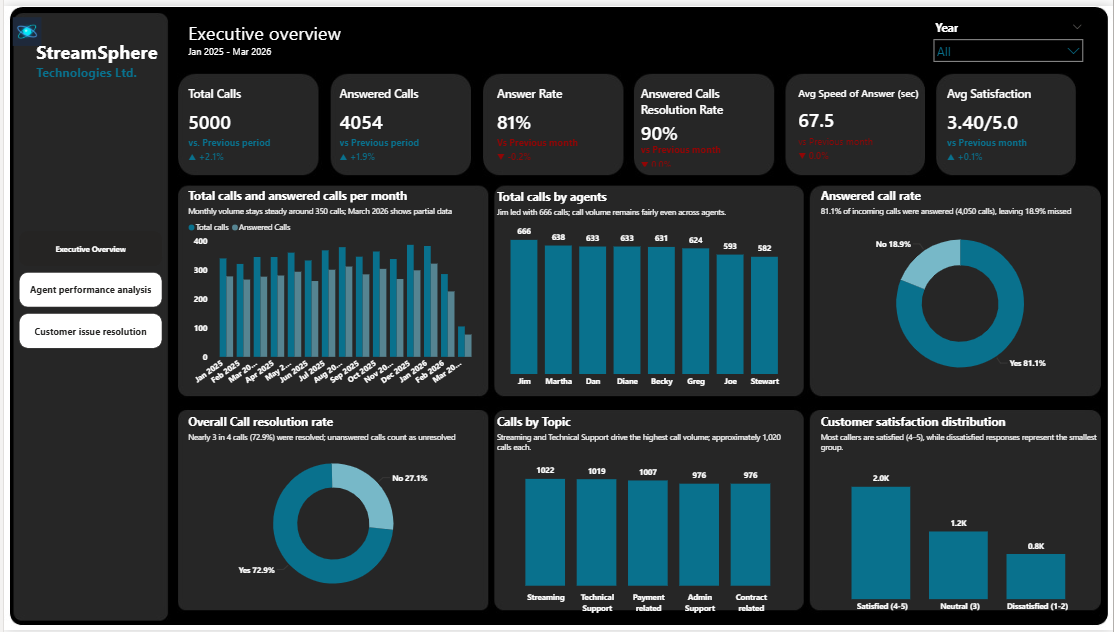

The page's visual inventory and layout, read from the dashboard file:
{"tool":"powerbi","page":{"name":"Executive Overview","canvas":[1920,1080],"ordinal":0},"visuals":[{"type":"textbox","box":[10,0,280,280],"z":0},{"type":"image","box":[0,19.5,80.1,49.8],"z":1000},{"type":"pageNavigator","box":[26,389.5,248.9,203.4],"z":2000},{"type":"cardVisual","title":"Total Calls","fields":{"Data":["_Measures.Total Calls"]},"box":[314.9,139.3,224.4,141.2],"z":3000},{"type":"cardVisual","title":"Answered Calls","fields":{"Data":["_Measures.Answered Calls"]},"box":[575.7,138.5,225.1,140.7],"z":4000},{"type":"cardVisual","title":"Answer Rate","fields":{"Data":["_Measures.Answer Rate %"]},"box":[848.3,138.5,225.1,140.7],"z":5000},{"type":"cardVisual","title":"Answered Calls Resolution Rate","fields":{"Data":["_Measures.Resolution Rate %"]},"box":[1097.2,138.5,225.1,140.7],"z":6000},{"type":"cardVisual","title":"Avg Speed of Answer (sec)","fields":{"Data":["_Measures.Avg Speed of Answer (sec)"]},"box":[1369.9,138.5,225.1,140.7],"z":7000},{"type":"cardVisual","title":"Avg Satisfaction","fields":{"Data":["_Measures.Avg Satisfaction"]},"box":[1627.4,138.5,225.1,140.7],"z":8000},{"type":"textbox","box":[313.8,19.5,930.6,93.1],"z":9000},{"type":"slicer","fields":{"Values":["Calendar.Year"]},"box":[1599.3,19.5,279.2,93.1],"z":10000},{"type":"clusteredColumnChart","title":"Total calls and answered calls per month","fields":{"Category":["Calendar.Month Year"],"Y":["CountNonNull(Call Center Dataset.call id)","_Measures.Answered Calls"]},"box":[313.8,313.8,512.9,352.8],"z":11000},{"type":"clusteredColumnChart","title":"Total calls by agents","fields":{"Category":["Call Center Dataset.agent"],"Y":["CountNonNull(Call Center Dataset.call id)"]},"box":[848.3,316,521.6,352.8],"z":12000},{"type":"donutChart","title":"Answered call rate","fields":{"Category":["Call Center Dataset.answered (Y/N)"],"Y":["CountNonNull(Call Center Dataset.call id)"]},"box":[1408.9,313.8,493.4,352.8],"z":13000},{"type":"donutChart","title":"Overall Call resolution rate","fields":{"Category":["Call Center Dataset.resolved"],"Y":["CountNonNull(Call Center Dataset.call id)"]},"box":[313.8,705.5,512.9,331.1],"z":14000},{"type":"clusteredColumnChart","title":"Calls by Topic","fields":{"Category":["Call Center Dataset.topic"],"Y":["CountNonNull(Call Center Dataset.call id)"]},"box":[848.3,705.5,521.6,352.8],"z":15000},{"type":"clusteredColumnChart","title":"Customer satisfaction distribution","fields":{"Category":["Call Center Dataset.CSAT Group"],"Y":["CountNonNull(Call Center Dataset.call id)"]},"box":[1409,706,493,353],"z":16000}]}

Visuals, with their boxes in screenshot pixels (x1, y1, x2, y2), scaled from the page's 1920x1080 canvas onto the 1116x632 screenshot:
textbox: box=[6, 0, 169, 164]
image: box=[0, 11, 47, 41]
pageNavigator: box=[15, 228, 160, 347]
"Total Calls" cardVisual: box=[183, 82, 313, 164]
"Answered Calls" cardVisual: box=[335, 81, 465, 163]
"Answer Rate" cardVisual: box=[493, 81, 624, 163]
"Answered Calls Resolution Rate" cardVisual: box=[638, 81, 769, 163]
"Avg Speed of Answer (sec)" cardVisual: box=[796, 81, 927, 163]
"Avg Satisfaction" cardVisual: box=[946, 81, 1077, 163]
textbox: box=[182, 11, 723, 66]
slicer - Calendar.Year: box=[930, 11, 1092, 66]
"Total calls and answered calls per month" clusteredColumnChart: box=[182, 184, 481, 390]
"Total calls by agents" clusteredColumnChart: box=[493, 185, 796, 391]
"Answered call rate" donutChart: box=[819, 184, 1106, 390]
"Overall Call resolution rate" donutChart: box=[182, 413, 481, 607]
"Calls by Topic" clusteredColumnChart: box=[493, 413, 796, 619]
"Customer satisfaction distribution" clusteredColumnChart: box=[819, 413, 1106, 620]
